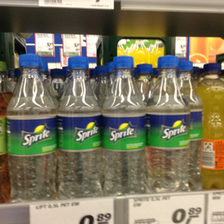soda: (7, 53, 56, 201), (57, 53, 102, 198), (102, 53, 147, 195), (147, 55, 189, 194)
